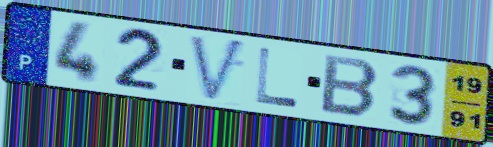2: (110, 24, 170, 99)
3: (387, 62, 439, 128)
4: (51, 19, 105, 87)
B: (317, 52, 383, 120)
L: (254, 45, 302, 110)
V: (187, 32, 250, 105)
